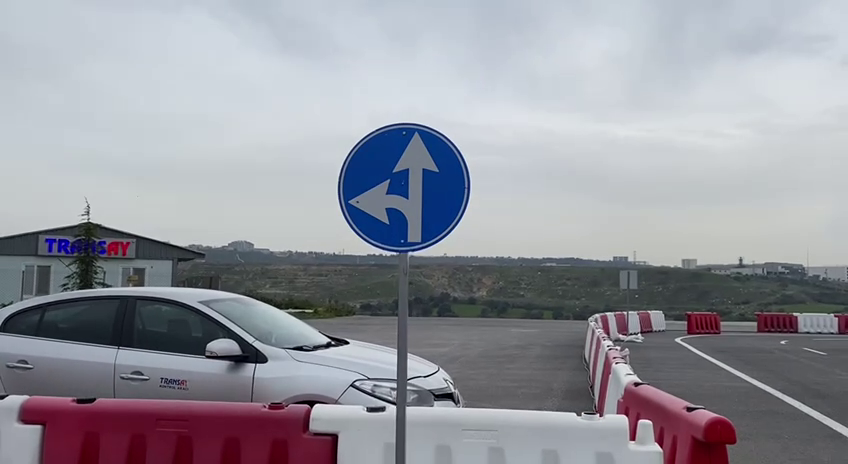forwardAndLeft: (334, 119, 474, 255)
